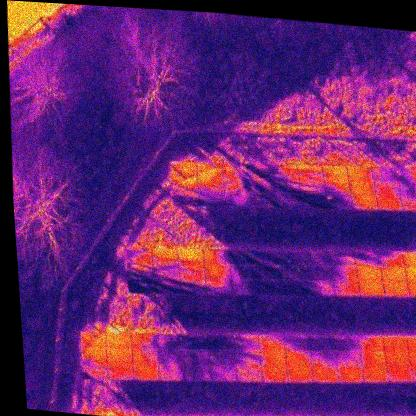Normal: (385, 364, 414, 384), (310, 366, 340, 384), (361, 365, 389, 384), (132, 363, 160, 382), (106, 346, 135, 364), (286, 365, 315, 383), (380, 265, 407, 284), (376, 194, 404, 212), (357, 280, 385, 298), (383, 349, 411, 367), (105, 332, 133, 350), (337, 365, 365, 383), (347, 165, 374, 183), (349, 179, 376, 197), (356, 264, 383, 282), (383, 280, 410, 298), (381, 335, 409, 352), (177, 248, 204, 265), (402, 250, 416, 268), (405, 265, 416, 284), (406, 334, 416, 354), (408, 280, 416, 298), (408, 350, 416, 366), (411, 363, 416, 384)
Shadow: (220, 160, 251, 182), (305, 277, 336, 299), (257, 331, 287, 353), (169, 159, 199, 180), (272, 176, 302, 197), (222, 174, 252, 195), (224, 189, 254, 210), (304, 263, 334, 284), (152, 274, 182, 295), (197, 185, 226, 206), (334, 348, 363, 369), (260, 364, 289, 385), (209, 363, 238, 384), (246, 175, 276, 195), (358, 349, 388, 369), (229, 261, 257, 282), (357, 332, 385, 353), (308, 332, 336, 353), (272, 163, 301, 183), (170, 173, 199, 193), (171, 186, 200, 206), (183, 363, 212, 383), (158, 363, 187, 383), (195, 160, 225, 179), (126, 260, 156, 279), (373, 179, 401, 199), (152, 260, 180, 280), (283, 332, 311, 352), (233, 332, 261, 352), (195, 174, 226, 192), (246, 161, 275, 180), (280, 264, 309, 283), (254, 263, 283, 282), (280, 278, 309, 297), (204, 277, 233, 296), (156, 347, 185, 366), (106, 361, 135, 380), (254, 278, 284, 296), (309, 350, 339, 368), (279, 249, 307, 268), (333, 334, 361, 353), (207, 332, 235, 351), (208, 348, 236, 367), (296, 163, 325, 181), (298, 177, 327, 195), (304, 250, 333, 268), (203, 262, 232, 280), (178, 276, 207, 294), (284, 349, 313, 367), (259, 350, 288, 368), (183, 350, 212, 368), (372, 165, 399, 184), (378, 250, 405, 269), (230, 277, 257, 296), (128, 276, 155, 295), (351, 193, 379, 211), (253, 249, 281, 267), (228, 247, 256, 265), (333, 279, 361, 297), (182, 333, 210, 351), (131, 333, 159, 351), (79, 331, 107, 349), (234, 349, 262, 367), (235, 365, 263, 383), (329, 249, 356, 267), (324, 178, 352, 195), (202, 249, 230, 266), (156, 334, 184, 351), (80, 360, 108, 377), (354, 250, 380, 268), (132, 348, 159, 365), (178, 262, 206, 278), (152, 248, 178, 265), (331, 265, 358, 281), (126, 247, 153, 263), (80, 347, 107, 363), (323, 166, 349, 182), (396, 166, 416, 185), (399, 181, 416, 198), (400, 195, 416, 213)
